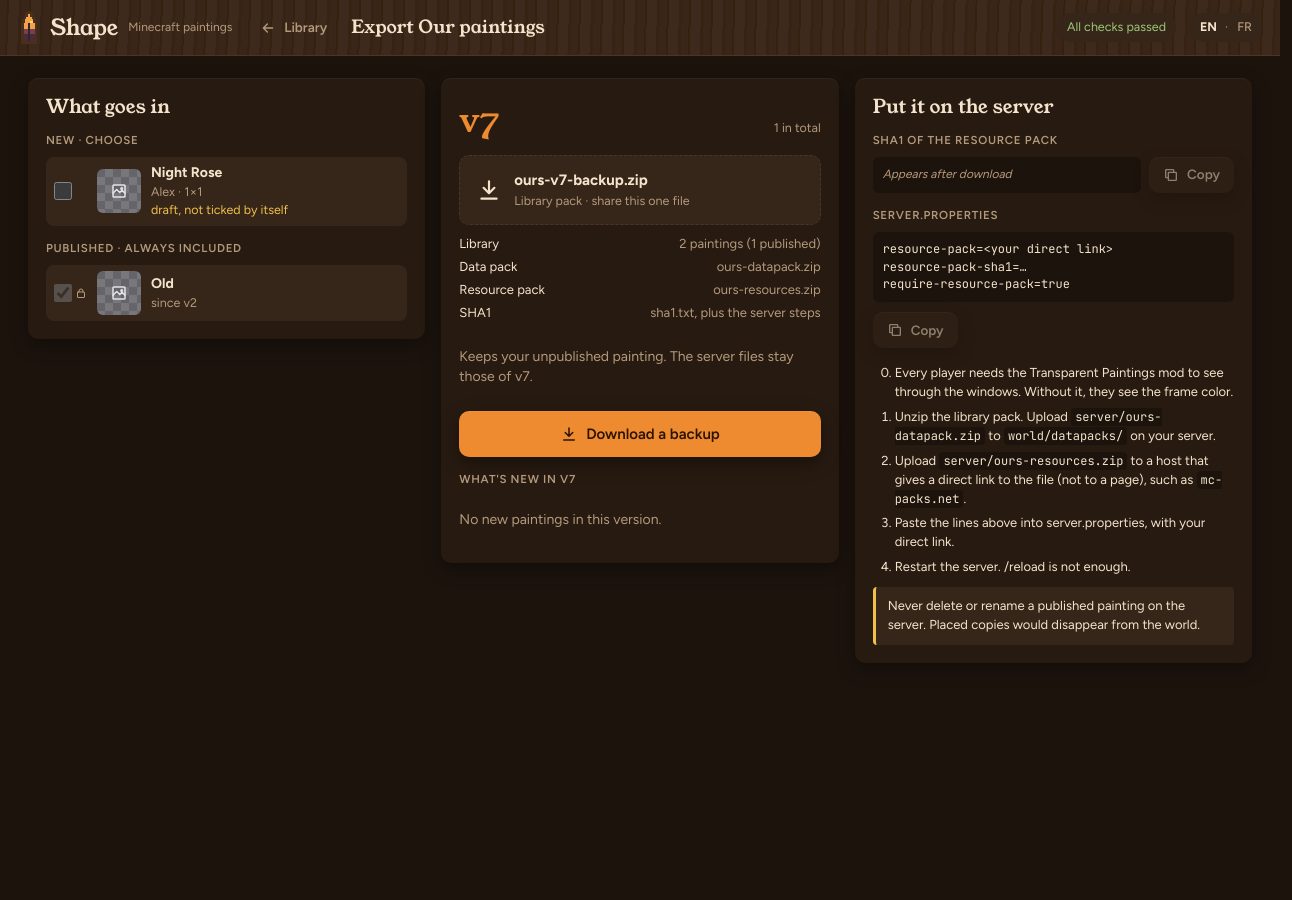
Test: ExportScreen › offers a backup, not the same file, while unpublished paintings exist (R35)
Expected: the text "Keeps your unpublished painting. The server files stay those of v7." is shown, [459,346,821,387]
Expected: the text "ours-v7-backup.zip" is shown, [514,171,648,189]
Click the button "Download a backup". click: (640, 434)
box: [459,411,821,457]
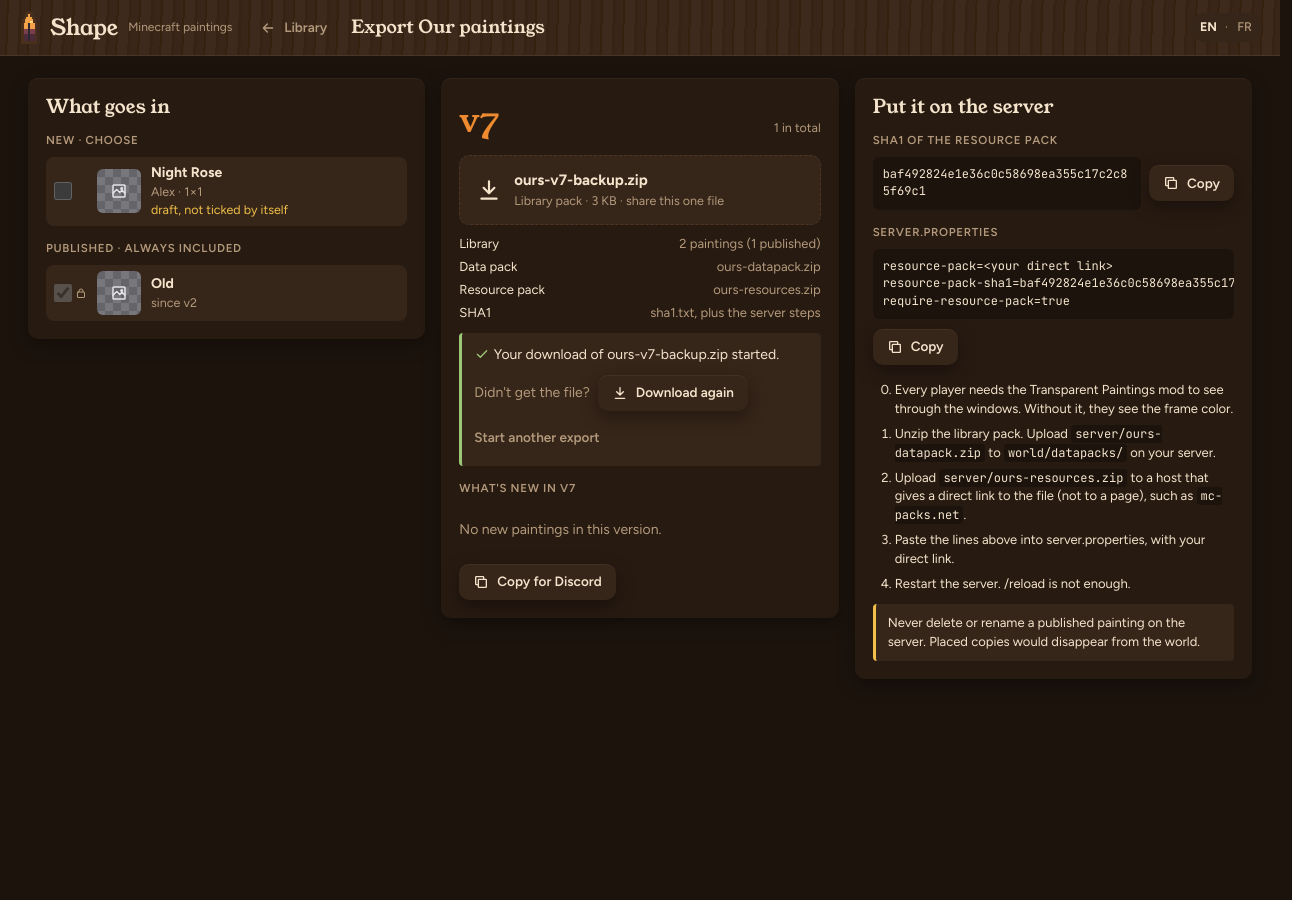
Expected: the text "ours-v7-backup.zip" is shown, [514,171,648,189]
Expected: the text "Your download of ours-v7-backup.zip started." is shown, [474,344,809,365]
